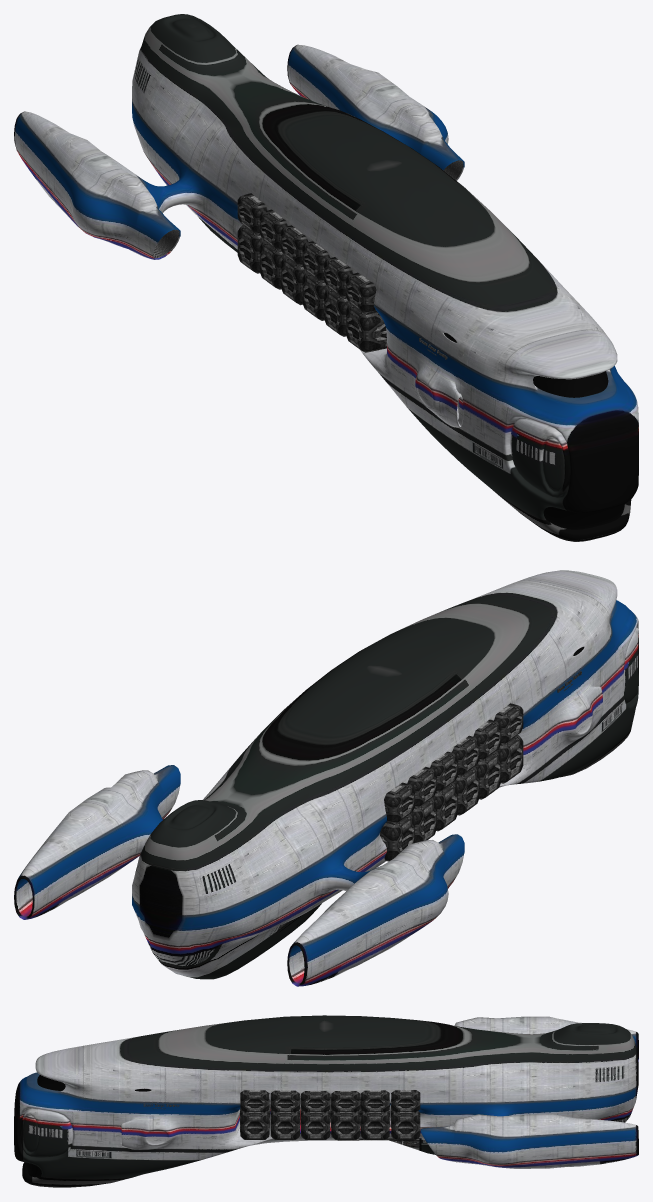
The model's file is Exon Cargo Ship.fbx.
3 views of the same model, one above another, from view 1: azimuth 30°, elevation 25°; view 2: azimuth 150°, elevation 25°; view 3: azimuth 270°, elevation 25° (orthographic). The views are drawn at different scales.
Parts seen in each view (by area): view 1: mesh01, ship_mesh01_1, ship1_mesh01_1; view 2: mesh01, ship_mesh01_1; view 3: mesh01, ship_mesh01_1, ship1_mesh01_1.
Part boxes in pixels (box(x1,y1,x2,y2)): mesh01: box(14, 14, 638, 541); ship_mesh01_1: box(237, 193, 386, 352); ship1_mesh01_1: box(444, 333, 624, 529); mesh01: box(14, 570, 638, 986); ship_mesh01_1: box(380, 703, 523, 861); mesh01: box(14, 1015, 638, 1187); ship_mesh01_1: box(239, 1090, 420, 1139); ship1_mesh01_1: box(24, 1075, 151, 1177).
Bounding box in the file's own units: 339 × 197 × 726.
5 materials, 3 textured.
